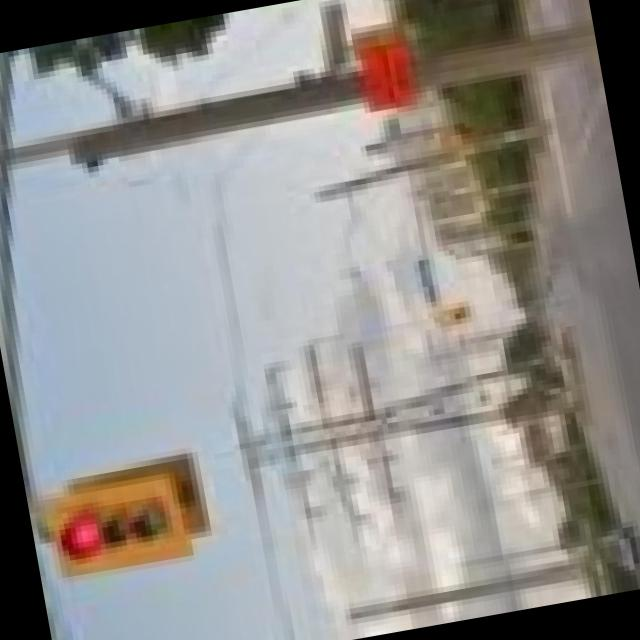red-lights: (45, 500, 114, 566)
